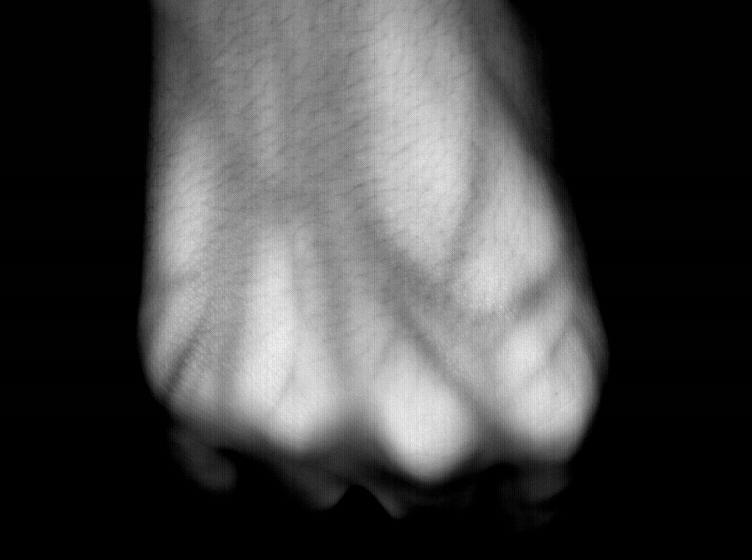Vein: (338, 171, 459, 314)
